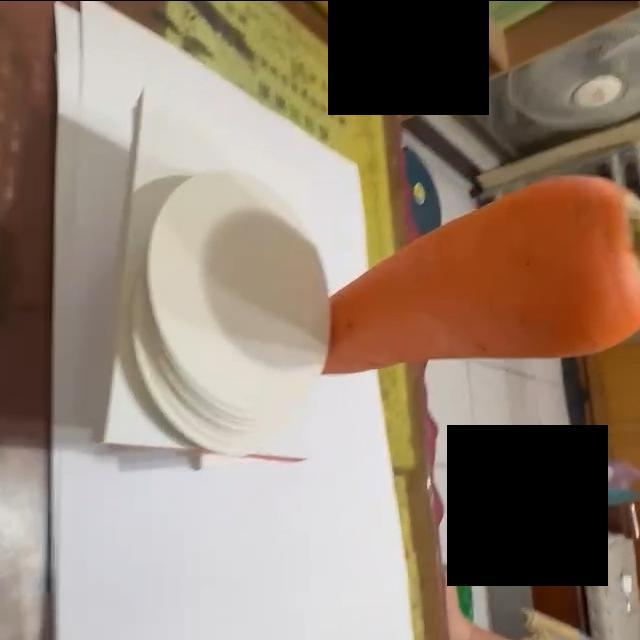carrot: (318, 172, 640, 378)
